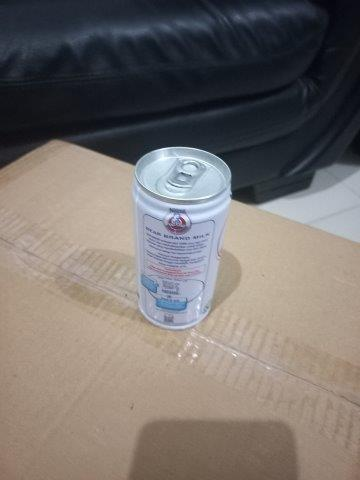kaleng: (136, 145, 232, 326)
kardus: (1, 137, 360, 480)
